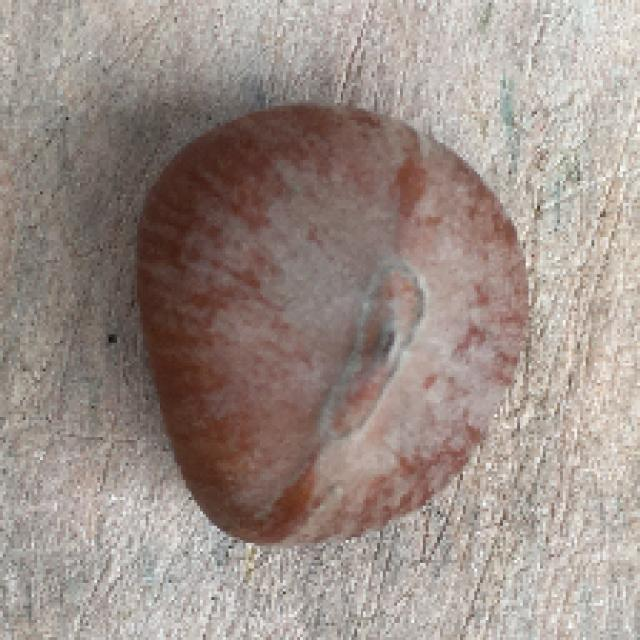qualityHazelnut: (119, 93, 538, 548)
